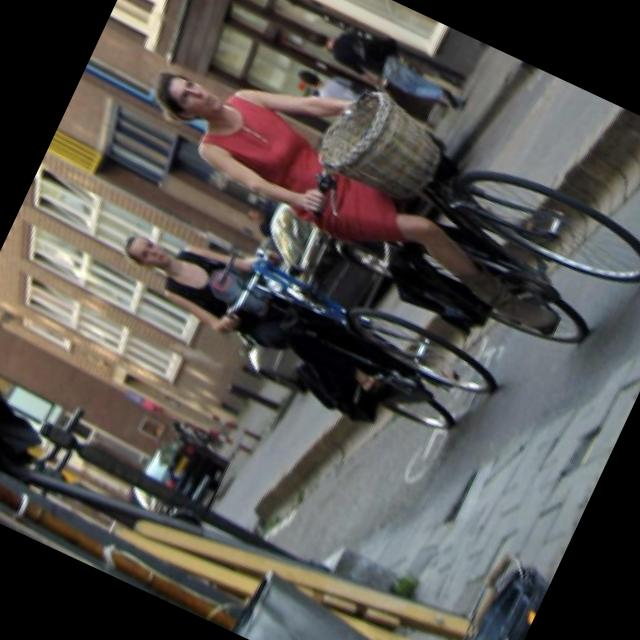bareface: (137, 58, 241, 144), (112, 222, 182, 282)
